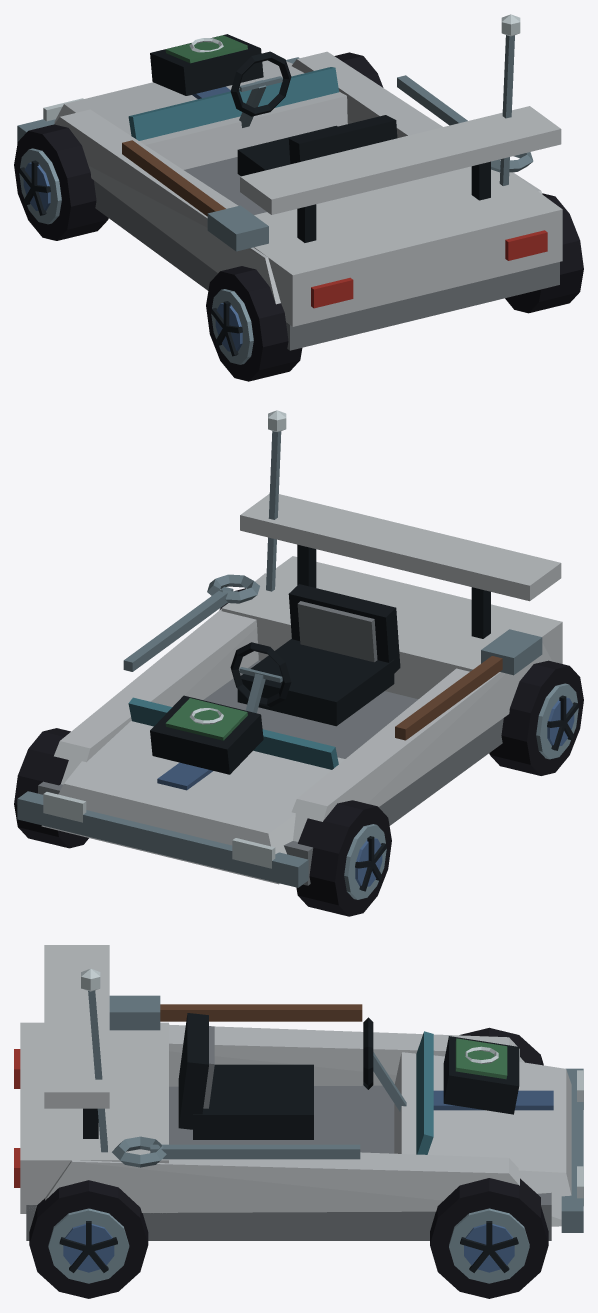
The model's file is kart.glb.
3 views of the same model, one above another, from view 1: azimuth 30°, elevation 25°; view 2: azimuth 150°, elevation 25°; view 3: azimuth 270°, elevation 25° (orthographic). The views are drawn at different scales.
Parts seen in each view (by area): view 1: identity-sports-car-sports-car-road-car-body, wheel-front-left, wheel-rear-left, identity-sports-car-driver-cockpit, identity-sports-car-motif-tools, identity-sports-car-motif-scanner, wheel-rear-right, identity-sports-car-motif-antenna, wheel-front-right; view 2: identity-sports-car-sports-car-road-car-body, identity-sports-car-driver-cockpit, wheel-front-left, wheel-rear-left, identity-sports-car-motif-tools, identity-sports-car-motif-scanner, wheel-front-right, identity-sports-car-motif-antenna; view 3: identity-sports-car-sports-car-road-car-body, identity-sports-car-driver-cockpit, wheel-front-right, wheel-rear-right, identity-sports-car-motif-tools, identity-sports-car-motif-scanner, identity-sports-car-motif-antenna, wheel-front-left.
Boxes of the visible parts, x1,y1,x2,y2 form: identity-sports-car-sports-car-road-car-body: (17,51,562,350); wheel-front-left: (14,124,108,240); wheel-rear-left: (206,266,302,381); identity-sports-car-driver-cockpit: (230,51,397,176); identity-sports-car-motif-tools: (122,75,533,251); identity-sports-car-motif-scanner: (150,34,263,95); wheel-rear-right: (505,193,583,313); identity-sports-car-motif-antenna: (499,14,520,185); wheel-front-right: (334,52,383,87); identity-sports-car-sports-car-road-car-body: (17,494,562,887); identity-sports-car-driver-cockpit: (230,584,400,726); wheel-front-left: (296,800,391,916); wheel-rear-left: (489,660,583,775); identity-sports-car-motif-tools: (123,574,542,740); identity-sports-car-motif-scanner: (150,695,263,774); wheel-front-right: (14,728,88,848); identity-sports-car-motif-antenna: (266,410,286,591); identity-sports-car-sports-car-road-car-body: (14,945,583,1240); identity-sports-car-driver-cockpit: (178,1013,406,1139); wheel-front-right: (430,1178,548,1298); wheel-rear-right: (29,1180,148,1298); identity-sports-car-motif-tools: (109,995,362,1167); identity-sports-car-motif-scanner: (443,1036,519,1114); identity-sports-car-motif-antenna: (81,968,107,1152); wheel-front-left: (459,1027,543,1065).
Bounding box in the file's own units: 2.07 × 1.72 × 2.88.
